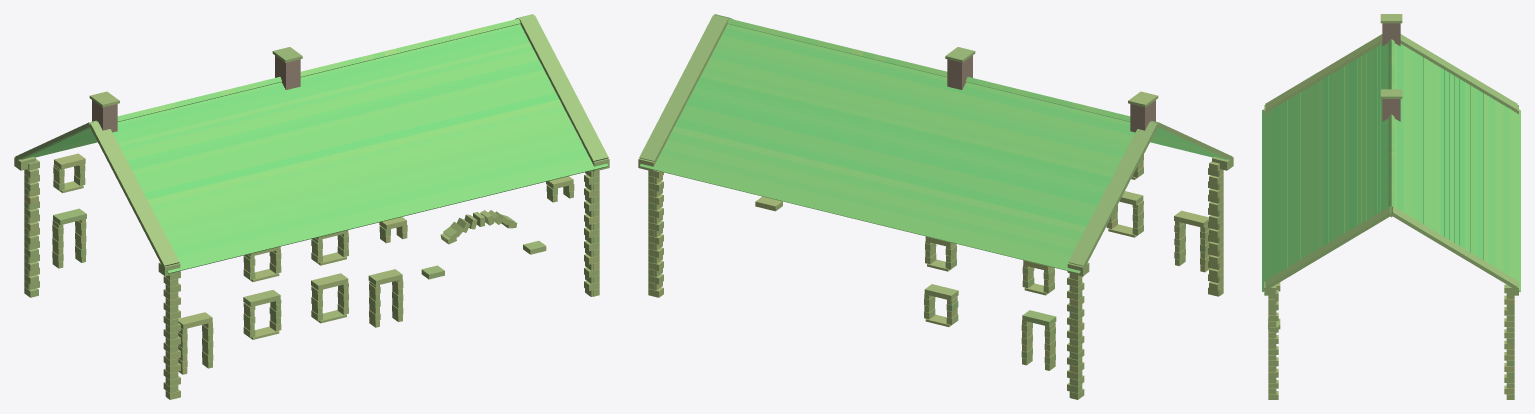
Rendered from SM_Bld_131_Stone.glb.
The picture shows the model from 3 angles, left to right: view 1: azimuth 30°, elevation 25°; view 2: azimuth 150°, elevation 25°; view 3: azimuth 270°, elevation 25°; orthographic projection. The views are drawn at different scales.
Parts seen in each view (by area): view 1: SM_Bld_131_Stone; view 2: SM_Bld_131_Stone; view 3: SM_Bld_131_Stone.
Part boxes in pixels (x1,y1,x2,y2): SM_Bld_131_Stone: [14, 14, 609, 399]; SM_Bld_131_Stone: [638, 14, 1233, 399]; SM_Bld_131_Stone: [1262, 14, 1520, 399].
Size of the model in its own units: 21.01 by 11.14 by 12.53.
